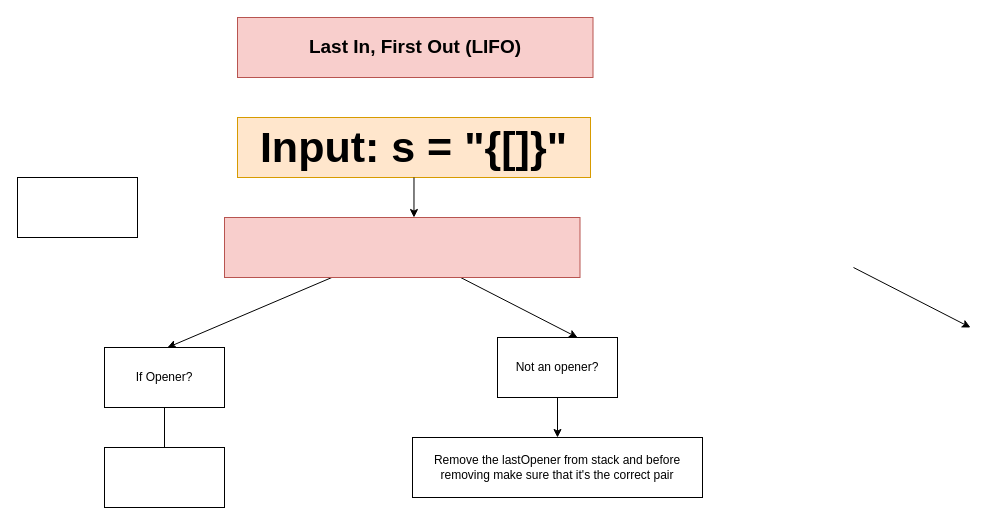
Image size: 996x525. Some labels were removed from this diagram. Here are the shapes that lost their labels. From the top down, the centre of each, then its label:
At [77,207]: "Stack = []".
At [402,247]: "CurrentCharacter = '}'".
At [164,477]: "Push in the Stack".
